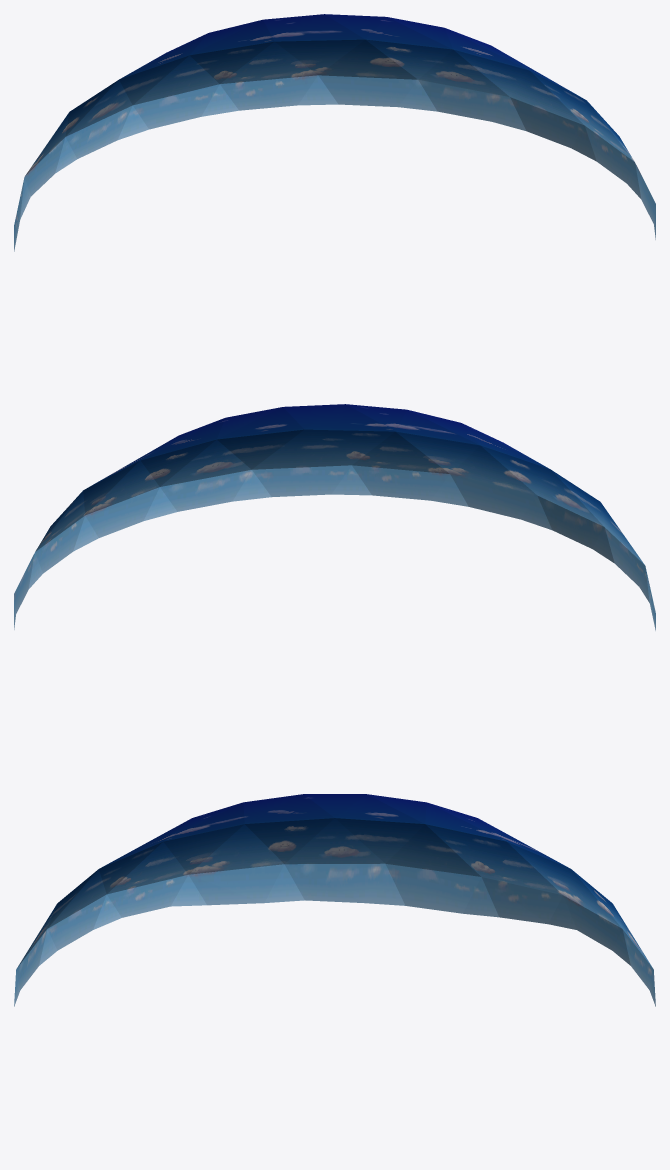
File: vrcorn.glb
The picture shows the model from 3 angles, top to bottom: view 1: azimuth 30°, elevation 25°; view 2: azimuth 150°, elevation 25°; view 3: azimuth 270°, elevation 25°; orthographic projection.
Visible parts, largest first — view 1: polygon0; view 2: polygon0; view 3: polygon0.
Part boxes in pixels (x1,y1,x2,y2): polygon0: (14,14,655,251); polygon0: (14,404,655,630); polygon0: (14,794,655,1006).
Size of the model in its own units: 2189 by 839 by 2189.
1 material, 1 textured.
